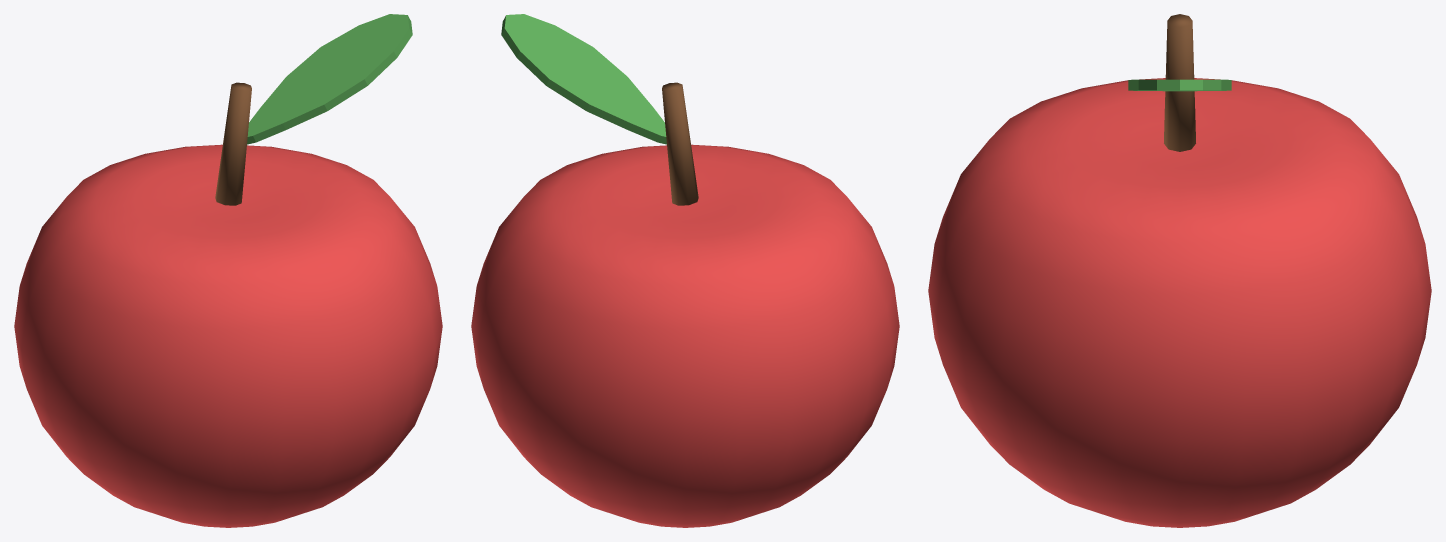
File: fruit-apple.glb
The picture shows the model from 3 angles, left to right: view 1: azimuth 30°, elevation 25°; view 2: azimuth 150°, elevation 25°; view 3: azimuth 270°, elevation 25°; orthographic projection. The views are drawn at different scales.
Visible parts, largest first — view 1: fruit; view 2: fruit; view 3: fruit.
Boxes of the visible parts, x1=… form: fruit: x1=14, y1=14, x2=442, y2=527; fruit: x1=471, y1=14, x2=899, y2=527; fruit: x1=928, y1=14, x2=1431, y2=527.
Bounding box in the file's own units: 0.28 × 0.3229 × 0.28.
